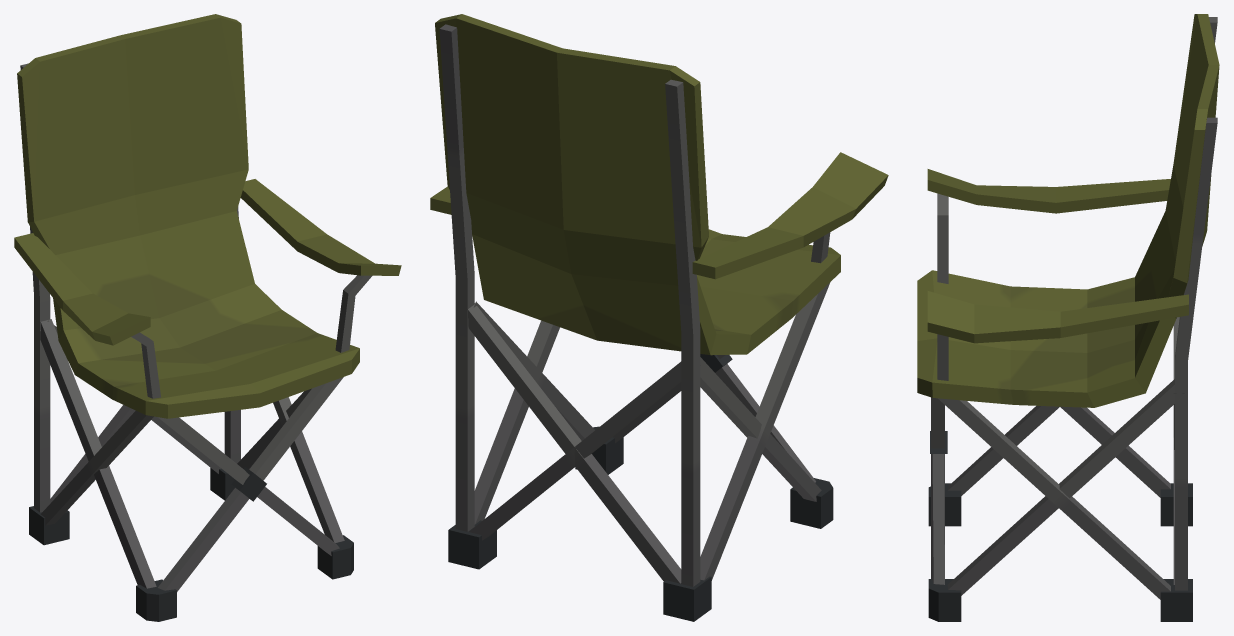
File: SM_Prop_Chair_Folding_01.glb
The picture shows the model from 3 angles, left to right: view 1: azimuth 30°, elevation 25°; view 2: azimuth 150°, elevation 25°; view 3: azimuth 270°, elevation 25°; orthographic projection. The views are drawn at different scales.
Parts seen in each view (by area): view 1: SM_Prop_Chair_Folding_01; view 2: SM_Prop_Chair_Folding_01; view 3: SM_Prop_Chair_Folding_01.
Boxes of the visible parts, x1,y1,x2,y2 form: SM_Prop_Chair_Folding_01: (14,14,401,621); SM_Prop_Chair_Folding_01: (430,14,888,621); SM_Prop_Chair_Folding_01: (917,14,1219,621).
Bounding box in the file's own units: 0.7361 × 1.13 × 0.6109.
1 material, 1 textured.
